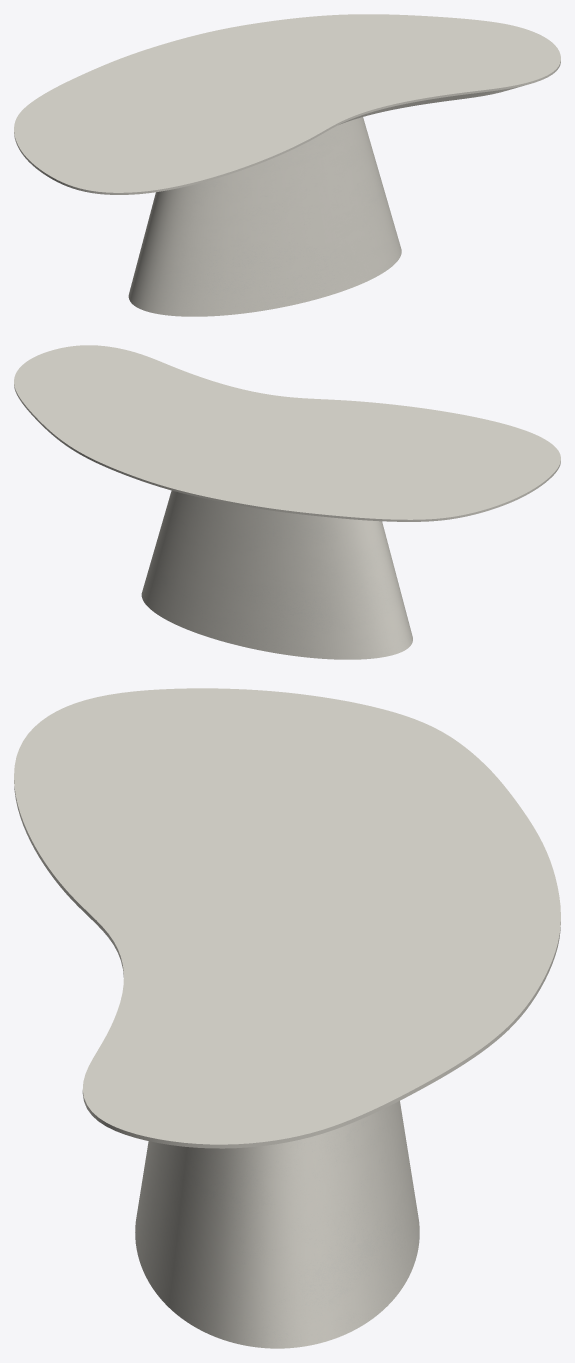
Rendered from pale_leaf1_facet_eqone.glb.
The picture shows the model from 3 angles, top to bottom: view 1: azimuth 30°, elevation 25°; view 2: azimuth 150°, elevation 25°; view 3: azimuth 270°, elevation 25°; orthographic projection. The views are drawn at different scales.
Parts seen in each view (by area): view 1: facet_leaf1, eqone; view 2: facet_leaf1, eqone; view 3: facet_leaf1, eqone.
Part boxes in pixels (bbox=[...]): facet_leaf1: bbox=[14, 14, 560, 194]; eqone: bbox=[128, 117, 401, 316]; facet_leaf1: bbox=[14, 345, 560, 521]; eqone: bbox=[141, 490, 412, 659]; facet_leaf1: bbox=[14, 688, 560, 1148]; eqone: bbox=[135, 1101, 419, 1348].
Bounding box in the file's own units: 7.5 × 2.5 × 3.8.
1 material, 1 textured.
